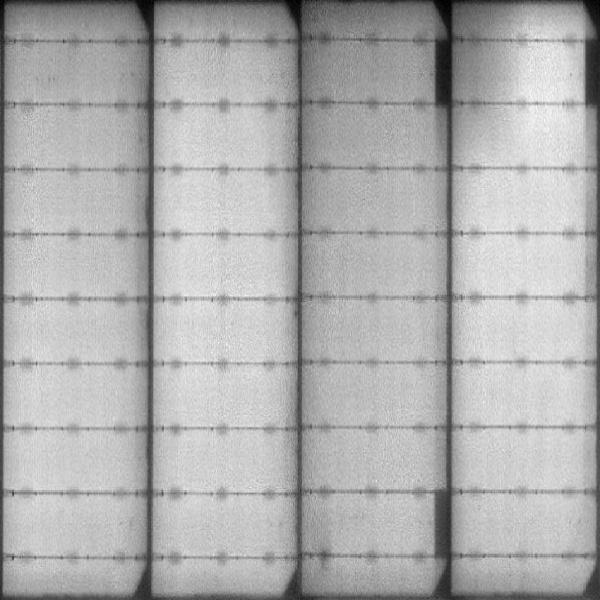black_border: (429, 485, 457, 562), (432, 38, 455, 113), (578, 36, 600, 113)
